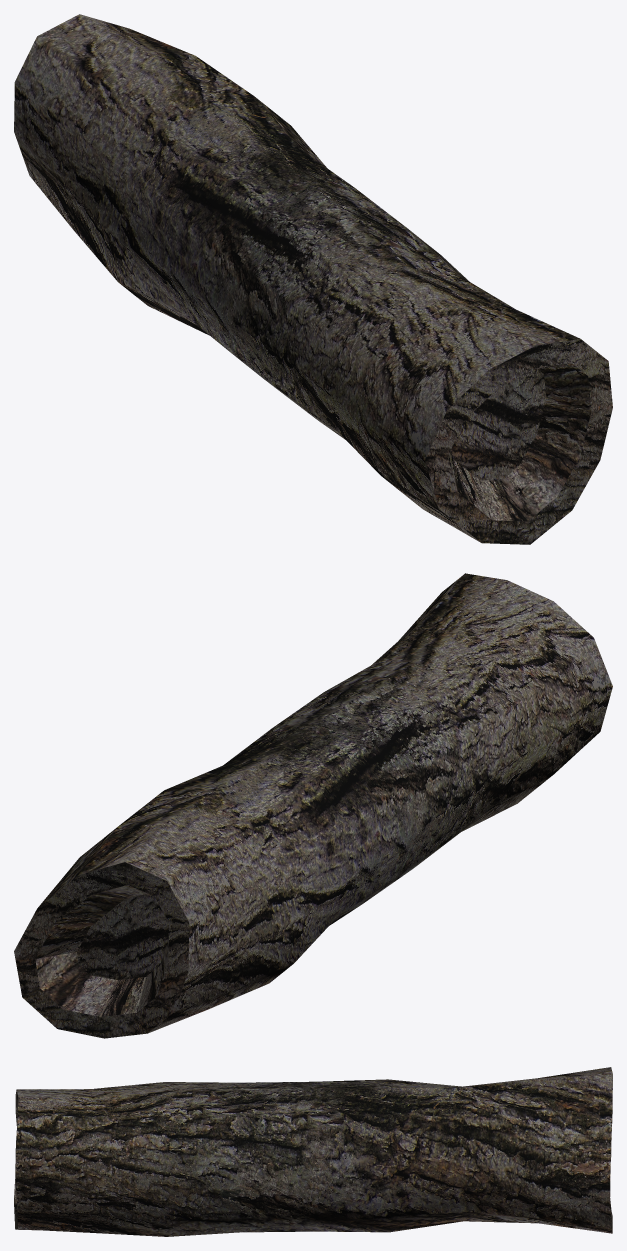
Rendered from Trunk.FBX.
3 renders of one model, top to bottom at view 1: azimuth 30°, elevation 25°; view 2: azimuth 150°, elevation 25°; view 3: azimuth 270°, elevation 25°, orthographic. The views are drawn at different scales.
Parts seen in each view (by area): view 1: Cylinder001; view 2: Cylinder001; view 3: Cylinder001.
Part boxes in pixels (<box>): Cylinder001: <box>14,14,612,544</box>; Cylinder001: <box>14,573,612,1038</box>; Cylinder001: <box>14,1067,612,1236</box>.
Bounding box in the file's own units: 114 × 114 × 403.
1 material, 1 textured.
